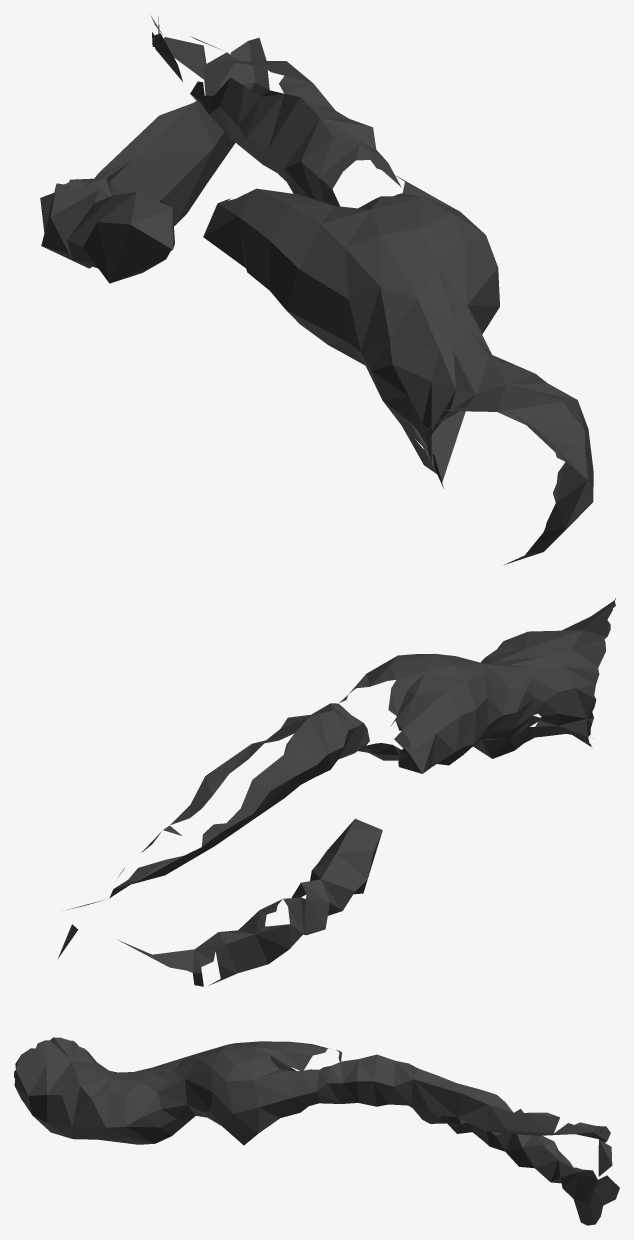
File: A_thoracic_lat_A_thoracic_lat.glb
3 renders of one model, top to bottom at view 1: azimuth 30°, elevation 25°; view 2: azimuth 150°, elevation 25°; view 3: azimuth 270°, elevation 25°, orthographic. The views are drawn at different scales.
Parts seen in each view (by area): view 1: A_thoracic_lat_A_thoracic_lat; view 2: A_thoracic_lat_A_thoracic_lat; view 3: A_thoracic_lat_A_thoracic_lat.
Part boxes in pixels (x1,y1,x2,y2): A_thoracic_lat_A_thoracic_lat: [40, 16, 593, 564]; A_thoracic_lat_A_thoracic_lat: [58, 598, 615, 986]; A_thoracic_lat_A_thoracic_lat: [14, 1037, 619, 1225].
Bounding box in the file's own units: 0.00699 × 0.00549 × 0.02.
1 material, 1 textured.
